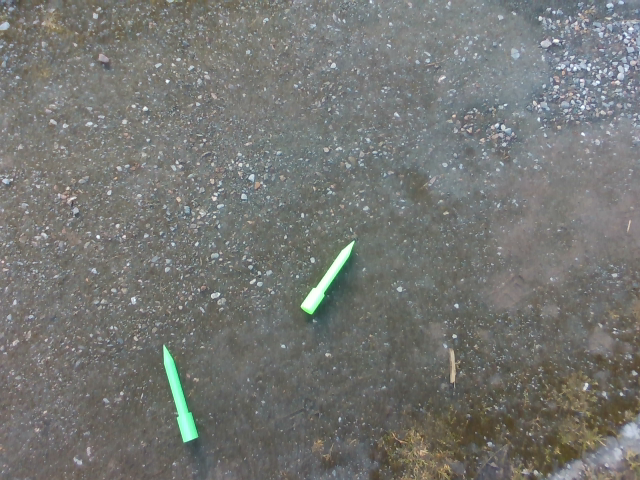Probe: (296, 235, 360, 323), (156, 339, 202, 446)
